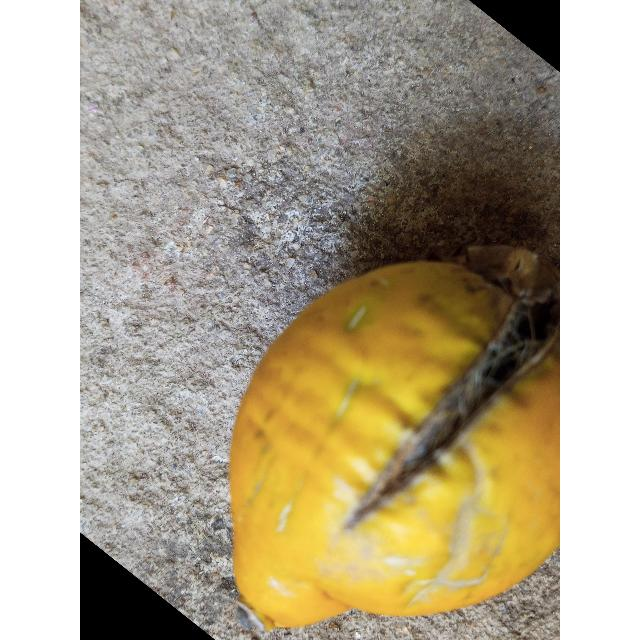damaged: (230, 262, 560, 630)
